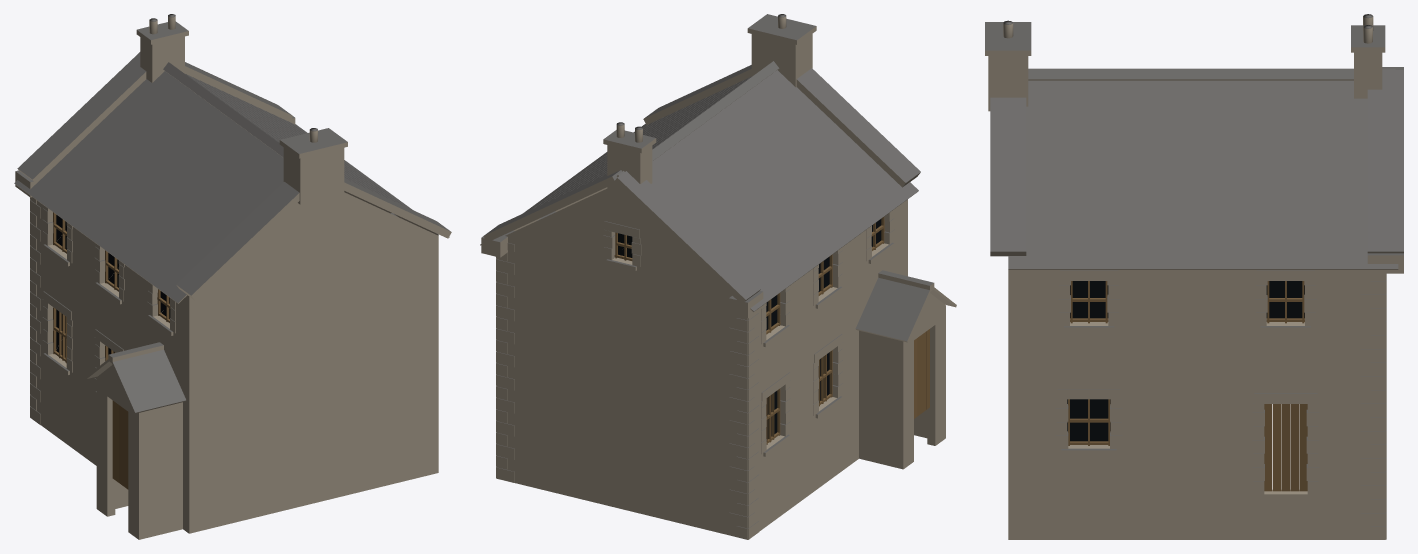
The model's file is context.dales.house_18.glb.
The picture shows the model from 3 angles, left to right: view 1: azimuth 30°, elevation 25°; view 2: azimuth 150°, elevation 25°; view 3: azimuth 270°, elevation 25°; orthographic projection. The views are drawn at different scales.
Visible parts, largest first — view 1: main__stone_a98, main__slate_666, main__paint_764, main__glass_dark, main__paint_864; view 2: main__stone_a98, main__slate_666, main__paint_764, main__glass_dark; view 3: main__stone_a98, main__slate_666, main__glass_dark, main__paint_764, main__paint_754, main__paint_753.
Part boxes in pixels (x1,y1,x2,y2): main__stone_a98: [15, 16, 451, 539]; main__slate_666: [14, 14, 450, 414]; main__paint_764: [53, 212, 170, 489]; main__glass_dark: [56, 215, 170, 357]; main__paint_864: [112, 400, 118, 482]; main__stone_a98: [480, 16, 956, 539]; main__slate_666: [481, 14, 933, 528]; main__paint_764: [614, 217, 929, 444]; main__glass_dark: [618, 219, 881, 438]; main__stone_a98: [985, 16, 1403, 539]; main__slate_666: [985, 14, 1403, 526]; main__glass_dark: [1067, 281, 1304, 441]; main__paint_764: [1067, 281, 1304, 491]; main__paint_754: [1281, 404, 1299, 491]; main__paint_753: [1299, 404, 1307, 491].
Bounding box in the file's own units: 8.54 × 9.8 × 8.34.
